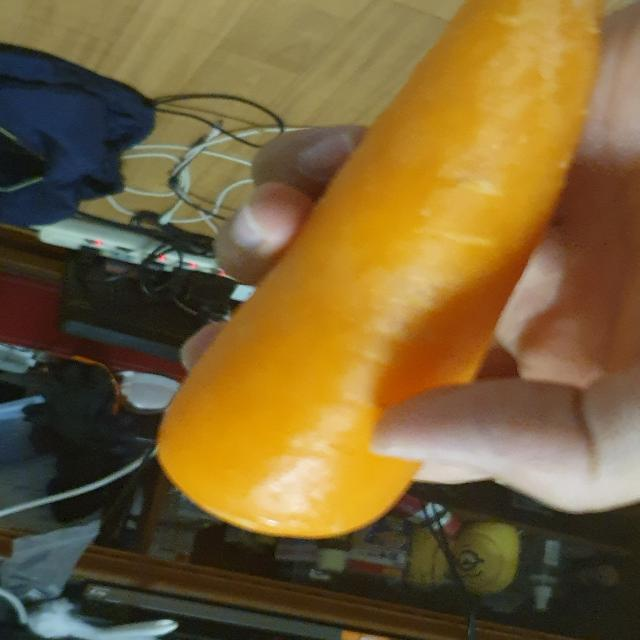carrot: (147, 0, 608, 550)
